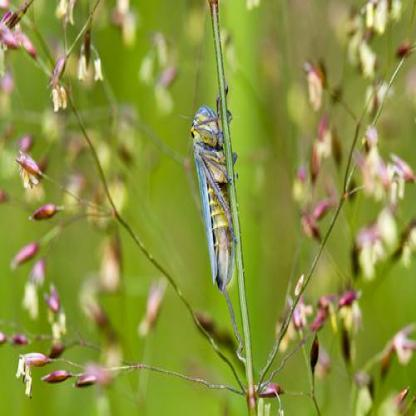Green-Leafhopper: (188, 74, 244, 297)
